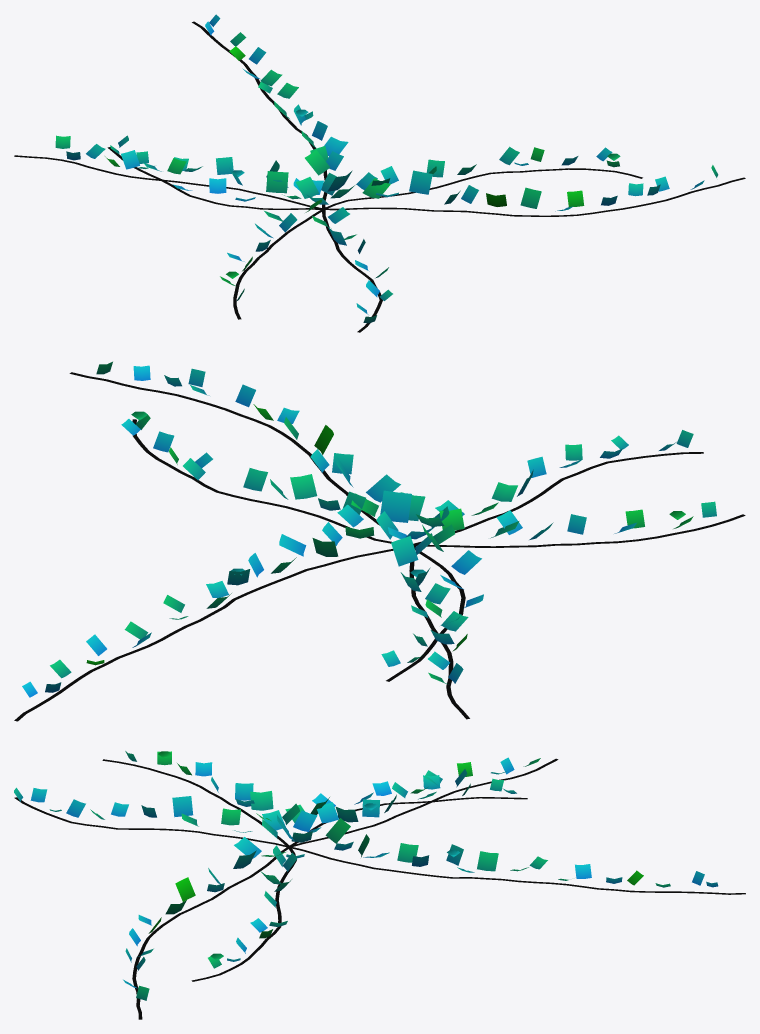
Rendered from beach_vine_patch.glb.
3 views of the same model, one above another, from view 1: azimuth 30°, elevation 25°; view 2: azimuth 150°, elevation 25°; view 3: azimuth 270°, elevation 25° (orthographic). The views are drawn at different scales.
Parts seen in each view (by area): view 1: beach_vine_patch; view 2: beach_vine_patch; view 3: beach_vine_patch.
Boxes of the visible parts, left/top/right/bottom form: beach_vine_patch: left=14, top=14, right=745, bottom=332; beach_vine_patch: left=14, top=361, right=745, bottom=721; beach_vine_patch: left=14, top=751, right=745, bottom=1019.
Size of what is drawn, in the model's own units: 3.1 by 0.1983 by 3.67.
